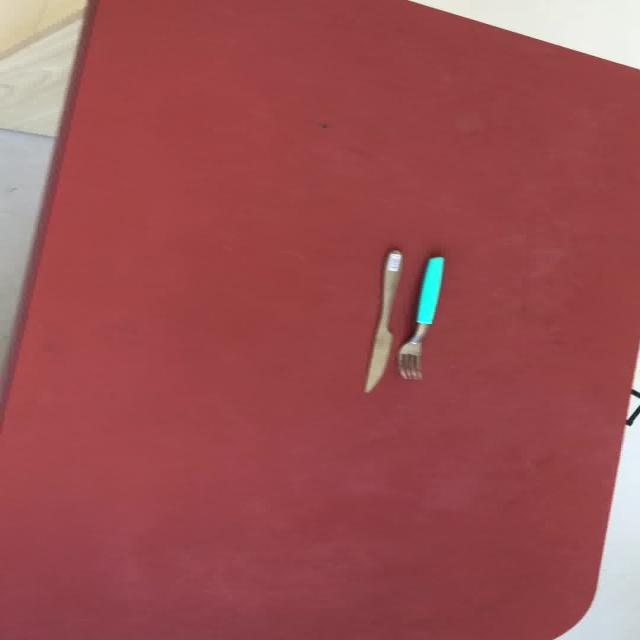fork: (395, 255, 444, 380)
knife fork: (362, 247, 402, 393)
